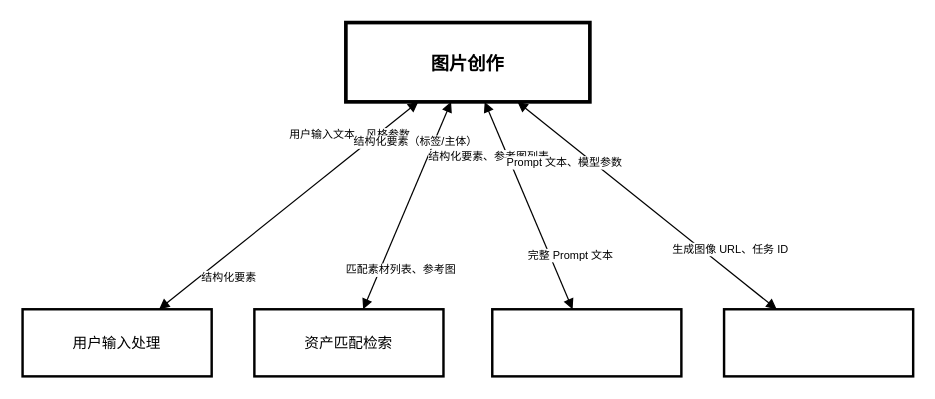
Image size: 935x399. Some labels were removed from this diagram. Here are the shapes that lost their labels. From the top down, the centre of each, then its label:
(586,342): Prompt 构建
(818,342): 生图任务调用
